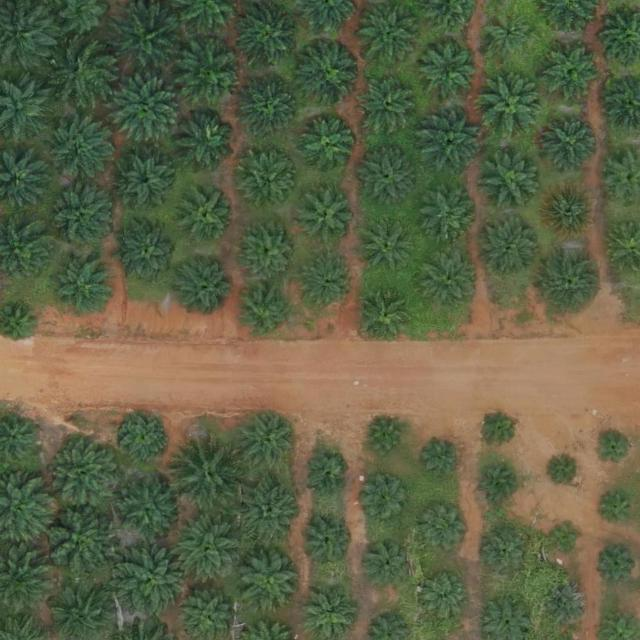Kelapa_Sawit: (45, 432, 123, 510), (38, 502, 116, 580), (113, 542, 191, 620), (170, 433, 248, 511), (167, 510, 245, 588), (109, 78, 179, 149), (107, 2, 177, 72), (481, 74, 543, 137), (418, 112, 480, 175), (357, 1, 419, 64), (357, 74, 419, 137), (355, 146, 417, 209), (298, 41, 360, 104), (236, 5, 298, 68), (237, 74, 299, 137), (180, 39, 242, 102), (48, 185, 110, 248), (51, 254, 113, 317), (416, 245, 478, 308), (480, 150, 542, 213), (479, 215, 541, 278), (540, 249, 602, 312), (173, 109, 235, 171), (52, 42, 114, 104), (48, 117, 110, 179), (117, 222, 179, 284), (175, 254, 237, 316), (239, 220, 301, 282), (117, 477, 179, 539), (235, 410, 297, 472), (238, 482, 300, 544), (238, 549, 300, 611), (545, 44, 600, 99), (541, 113, 596, 168), (299, 118, 354, 173), (116, 154, 171, 209), (299, 189, 354, 244), (301, 255, 356, 310), (361, 218, 416, 273), (359, 286, 414, 341), (541, 183, 596, 238), (298, 513, 352, 568), (421, 42, 475, 97), (240, 155, 294, 210), (180, 186, 234, 241), (238, 284, 292, 339), (425, 184, 479, 239), (486, 13, 532, 60), (420, 570, 466, 617), (364, 538, 410, 585), (121, 413, 167, 460), (301, 451, 347, 498), (362, 477, 408, 523), (421, 503, 467, 549), (482, 531, 528, 577), (544, 584, 590, 630), (478, 408, 517, 447), (479, 464, 518, 503), (366, 418, 404, 457), (422, 439, 460, 478), (594, 428, 632, 467), (596, 490, 634, 529), (596, 545, 634, 584), (550, 455, 581, 486), (550, 522, 581, 553)
